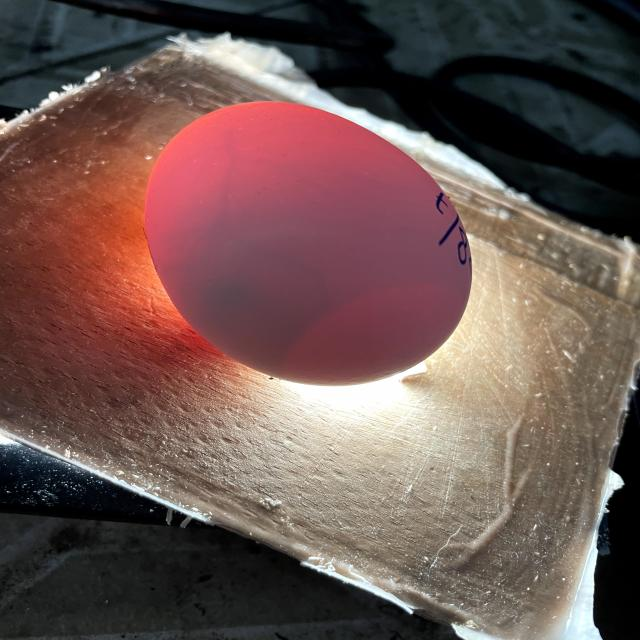fertile: (145, 101, 472, 385)
